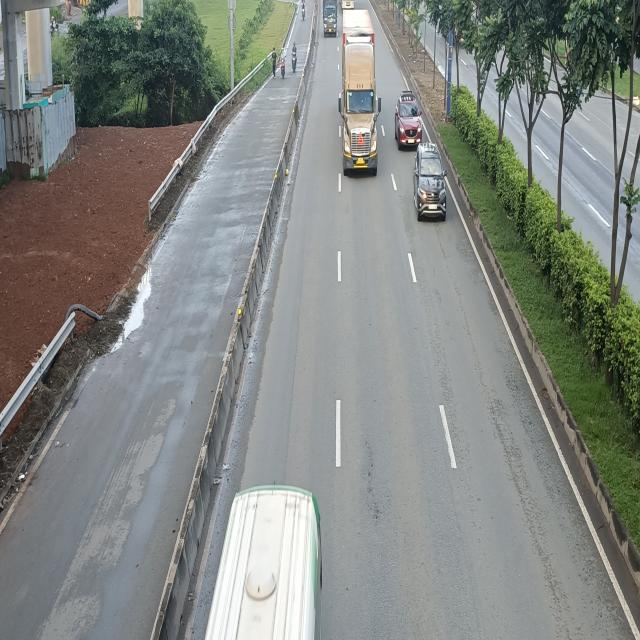car: (413, 142, 447, 221), (397, 92, 425, 152)
container: (339, 8, 382, 173)
truck: (322, 0, 338, 35)
